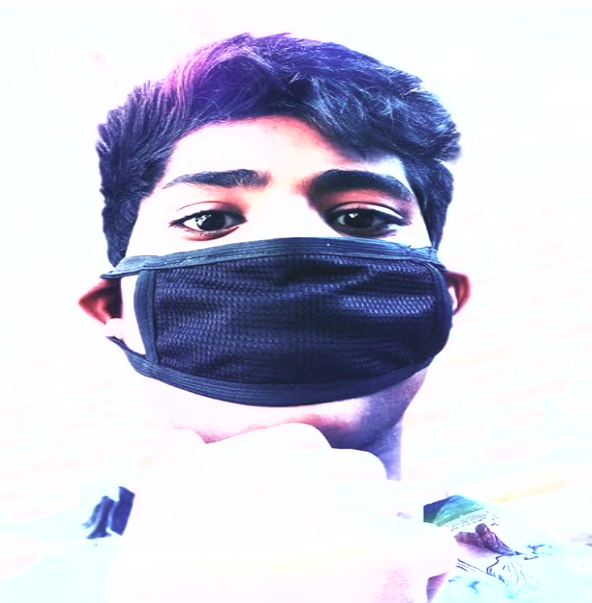mask_weared_incorrect: (82, 34, 473, 457)
